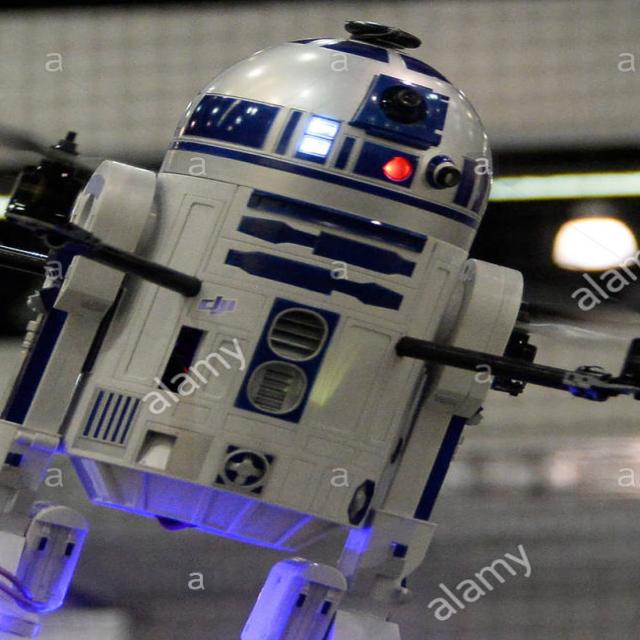drone: (0, 92, 640, 445)
